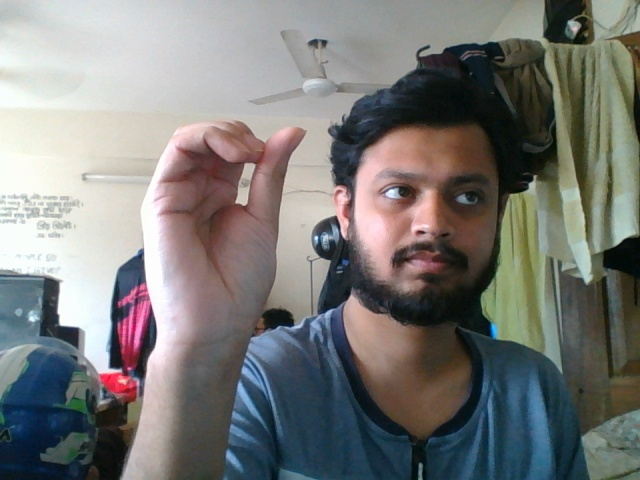ae: (131, 109, 311, 428)
